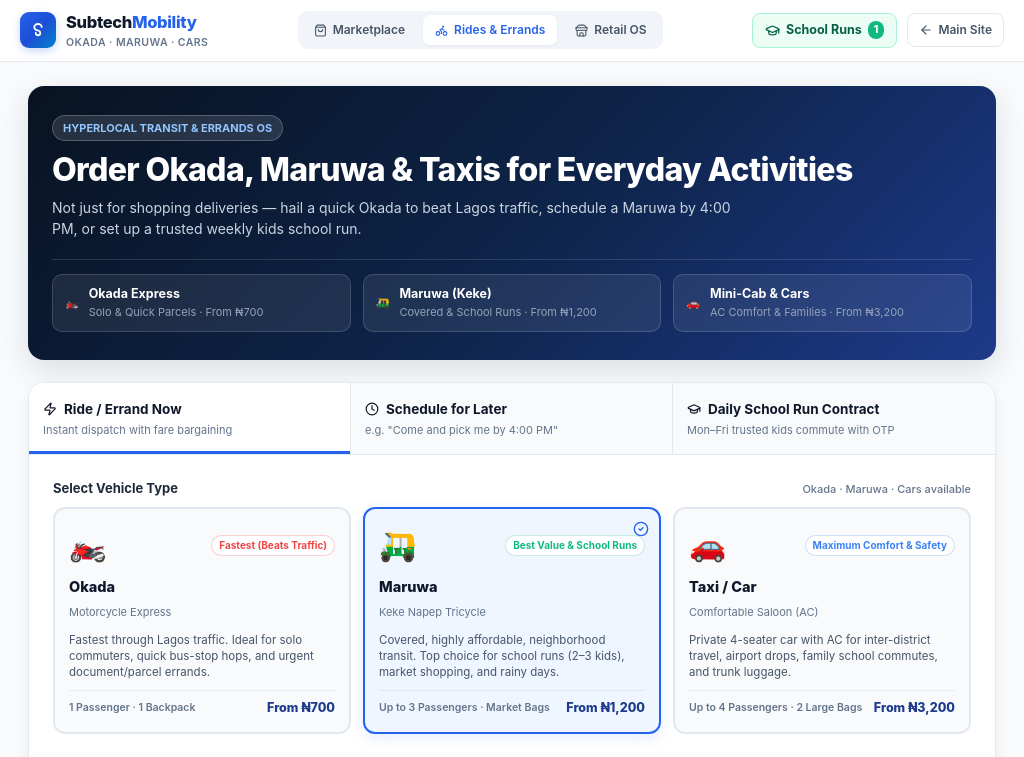
it: Subtech Mobility (STV Rides & Errands) › opens school run modal when clicking School Runs button in header
Click the button titled "School Run Contracts": (825, 30) 752,13 -> 897,48
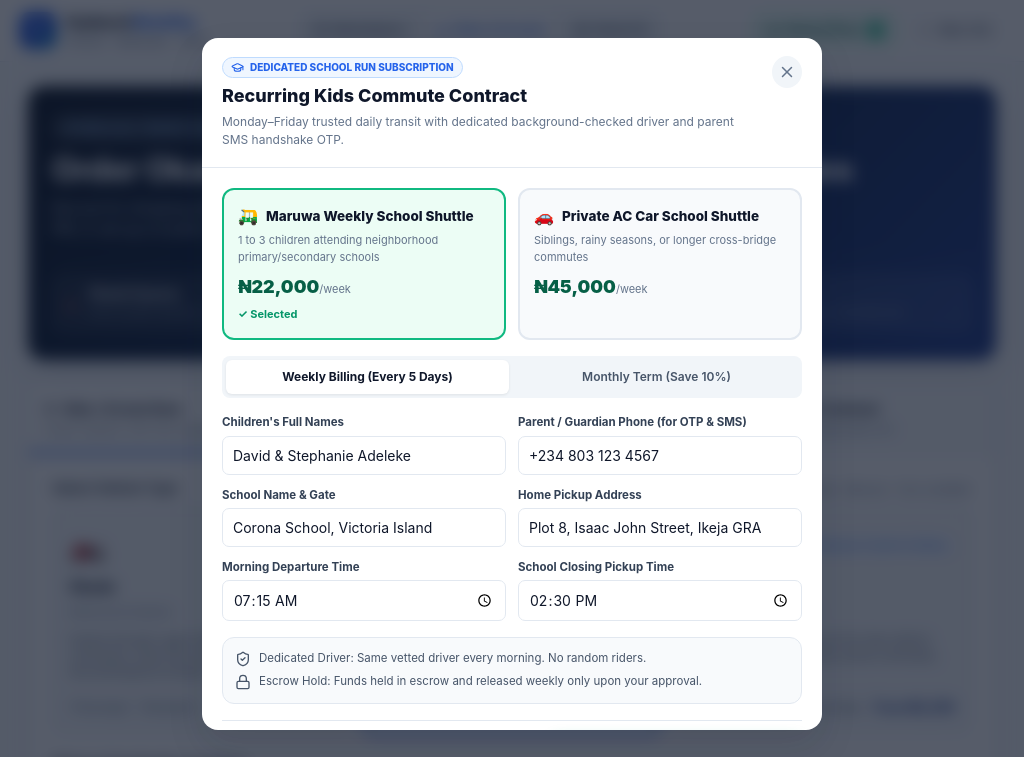
Now the text "DEDICATED SCHOOL RUN SUBSCRIPTION" is shown, box 250,60 -> 454,75
Now the heading "Recurring Kids Commute Contract" is shown, box 222,85 -> 527,106
